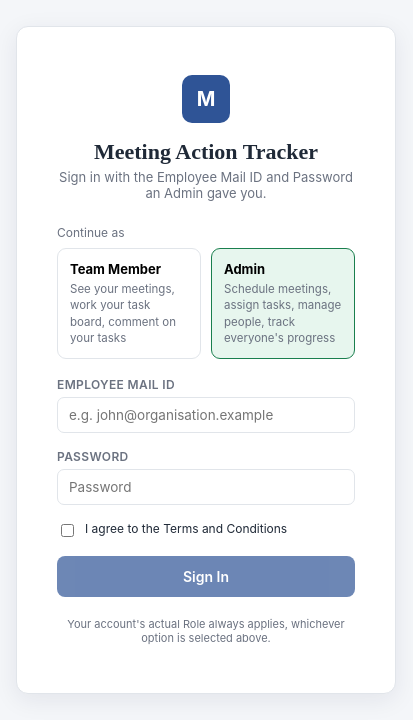
Test case: LoginPage › shows an error message when credentials are invalid
Type "sarah@example.com" into the field labelled "Employee Mail ID" at [206, 415], box [57,397,355,433]
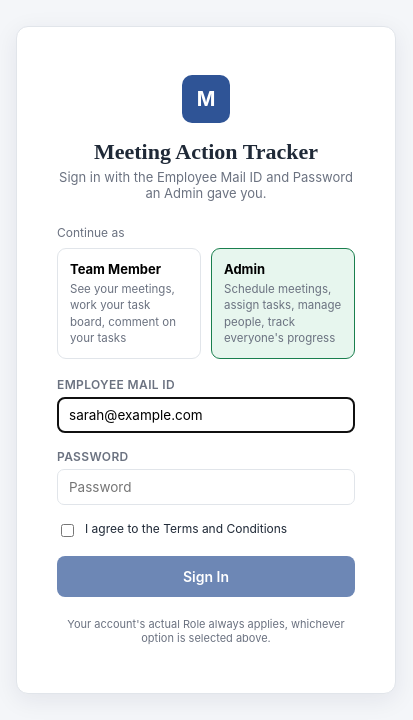
Type "wrong-password" into the password field labelled "Password" at [206, 487], box [57,469,355,505]
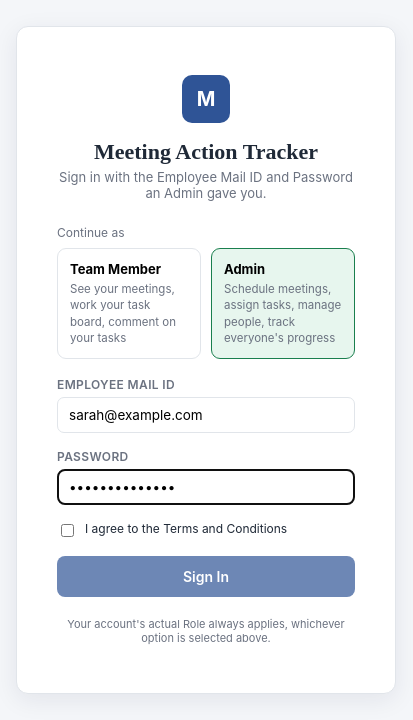
Click the checkbox labelled "I agree to the Terms and Conditions" at [68, 530], box [61,524,74,537]
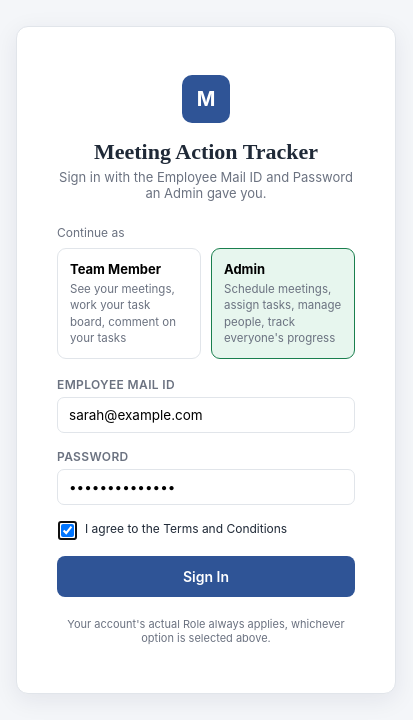
Click the button "Sign In" at [206, 576], box [57,556,355,597]
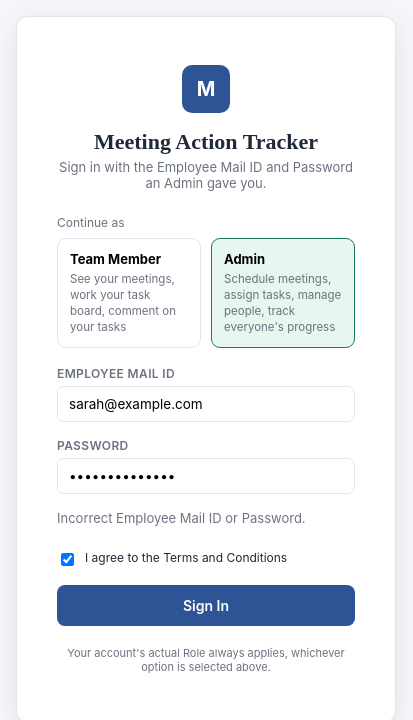
Result: the message shows "Incorrect Employee Mail ID or Password" at [57,510,306,526]
